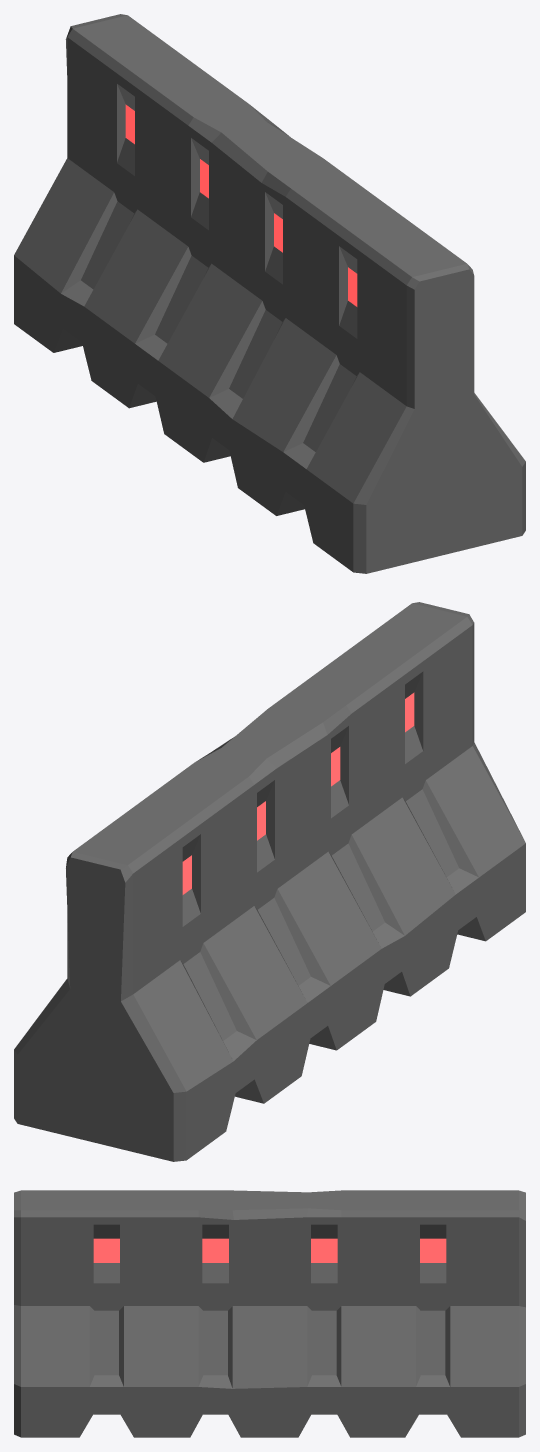
File: wallB.fbx
3 renders of one model, top to bottom at view 1: azimuth 30°, elevation 25°; view 2: azimuth 150°, elevation 25°; view 3: azimuth 270°, elevation 25°, orthographic. The views are drawn at different scales.
Visible parts, largest first — view 1: SM_Prop_Barrier_Plastic_02; view 2: SM_Prop_Barrier_Plastic_02; view 3: SM_Prop_Barrier_Plastic_02.
Boxes of the visible parts, box(x1,y1,x2,y2) form: SM_Prop_Barrier_Plastic_02: box(14, 14, 525, 573); SM_Prop_Barrier_Plastic_02: box(14, 602, 525, 1161); SM_Prop_Barrier_Plastic_02: box(14, 1190, 525, 1437).
Bounding box in the file's own units: 65.43 × 102 × 229.
